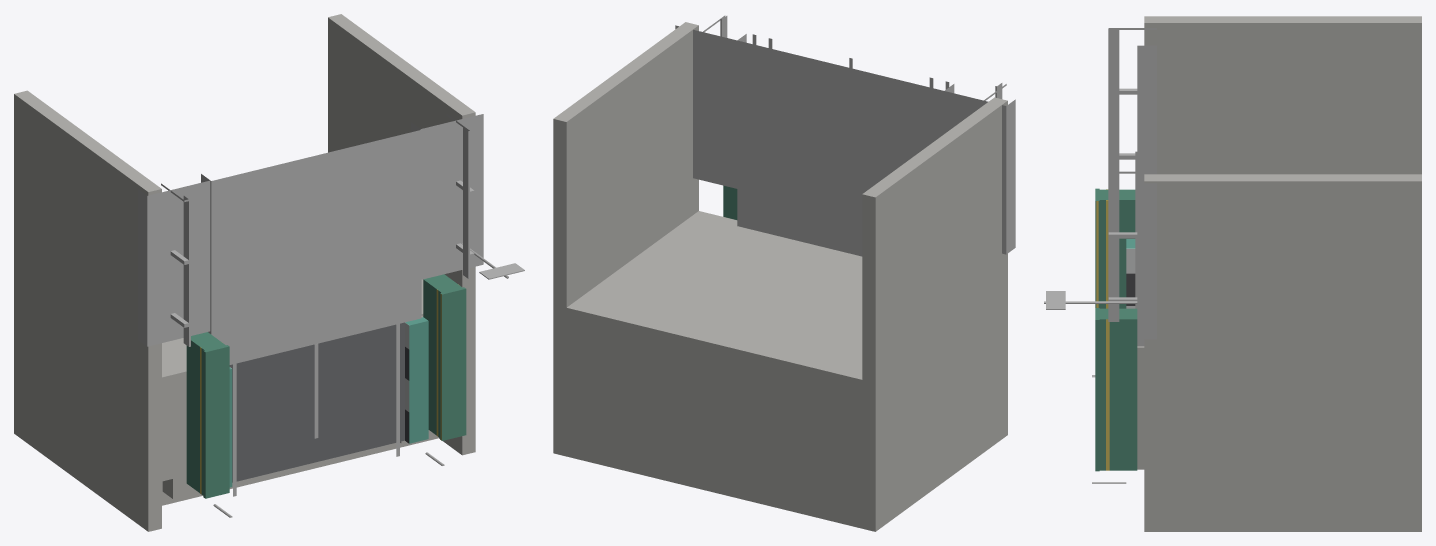
The picture shows the model from 3 angles, left to right: view 1: azimuth 30°, elevation 25°; view 2: azimuth 150°, elevation 25°; view 3: azimuth 270°, elevation 25°; orthographic projection. The views are drawn at different scales.
Parts seen in each view (by area): view 1: AU_beton, AU_aspal_lantai, AU_aspal, AU_bahu_lantai, AU_parapet, AU_marka_putih_lantai, AU_kerb, AU_guardrail_lantai, AU_kuning, AU_marka_kuning_lantai; view 2: AU_beton, AU_aspal_lantai, AU_bahu_lantai; view 3: AU_beton, AU_parapet, AU_bahu_lantai, AU_guardrail_lantai, AU_kuning, AU_aspal_lantai.
Boxes of the visible parts, left/top/right/bottom form: AU_beton: left=14, top=14, right=475, bottom=531; AU_aspal_lantai: left=201, top=130, right=421, bottom=364; AU_aspal: left=229, top=322, right=404, bottom=482; AU_bahu_lantai: left=138, top=114, right=483, bottom=346; AU_parapet: left=186, top=274, right=466, bottom=498; AU_marka_putih_lantai: left=216, top=131, right=416, bottom=496; AU_kerb: left=229, top=317, right=428, bottom=487; AU_guardrail_lantai: left=161, top=114, right=474, bottom=346; AU_kuning: left=200, top=284, right=458, bottom=494; AU_marka_kuning_lantai: left=314, top=155, right=318, bottom=438; AU_beton: left=553, top=22, right=1007, bottom=531; AU_aspal_lantai: left=737, top=40, right=954, bottom=256; AU_bahu_lantai: left=675, top=25, right=1015, bottom=254; AU_beton: left=1137, top=16, right=1421, bottom=531; AU_parapet: left=1095, top=188, right=1137, bottom=471; AU_bahu_lantai: left=1137, top=45, right=1156, bottom=339; AU_guardrail_lantai: left=1108, top=28, right=1156, bottom=321; AU_kuning: left=1096, top=189, right=1109, bottom=470; AU_aspal_lantai: left=1135, top=151, right=1156, bottom=346.
Size of the model in its own units: 11.2 by 10.81 by 10.55.
